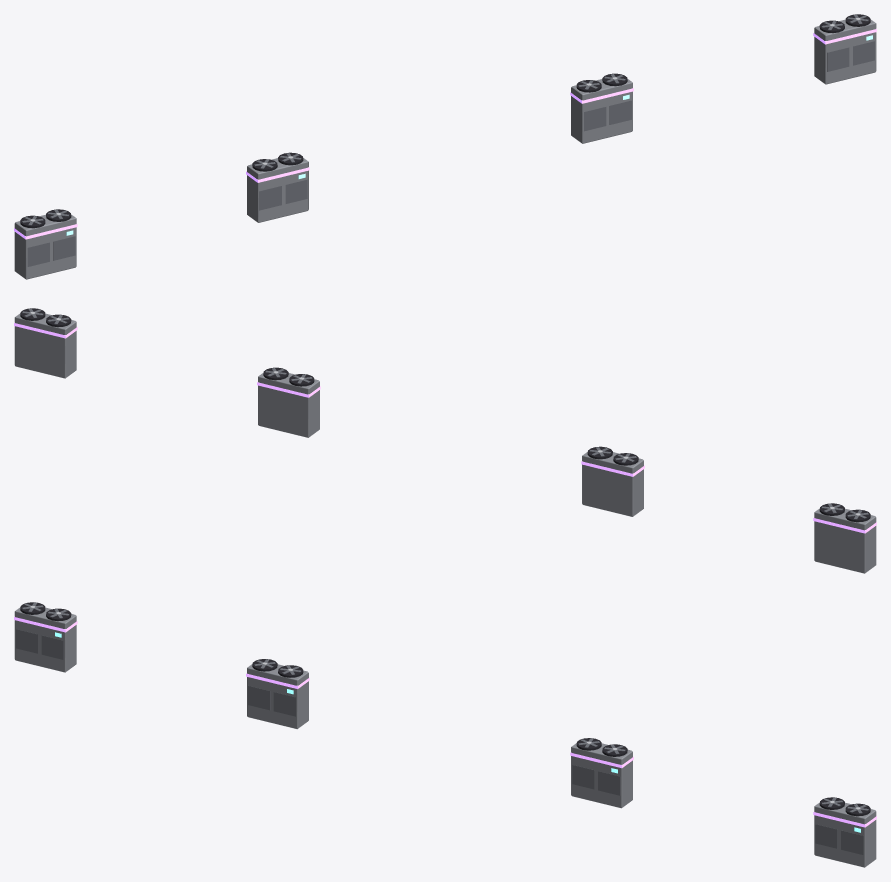
File: einrichtung_kabeltrasse_buehne.glb
3 views of the same model, one above another, from view 1: azimuth 30°, elevation 25°; view 2: azimuth 150°, elevation 25°; view 3: azimuth 330°, elevation 25° (orthographic).
Visible parts, largest first — view 1: einrichtung_kabeltrasse_buehne; view 2: einrichtung_kabeltrasse_buehne; view 3: einrichtung_kabeltrasse_buehne.
Part boxes in pixels (x1,y1,x2,y2): einrichtung_kabeltrasse_buehne: [14, 14, 876, 279]; einrichtung_kabeltrasse_buehne: [14, 308, 876, 573]; einrichtung_kabeltrasse_buehne: [14, 602, 876, 867].
Size of the model in its own units: 23.1 by 1.37 by 0.6.
